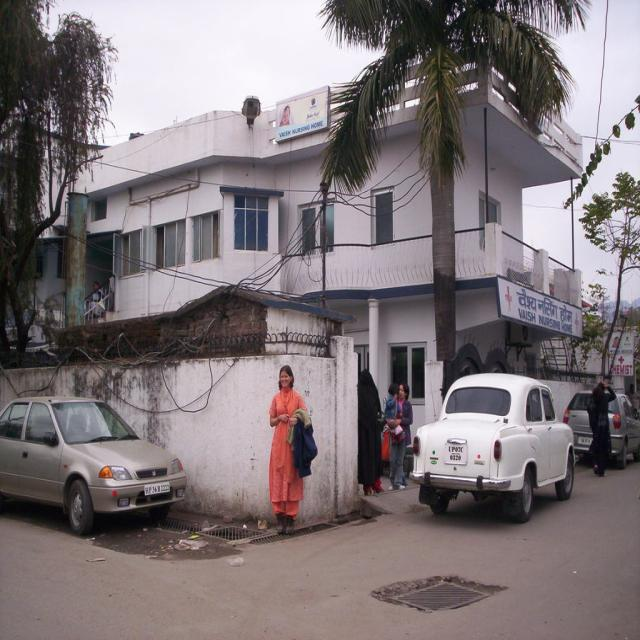car: (408, 354, 578, 523)
